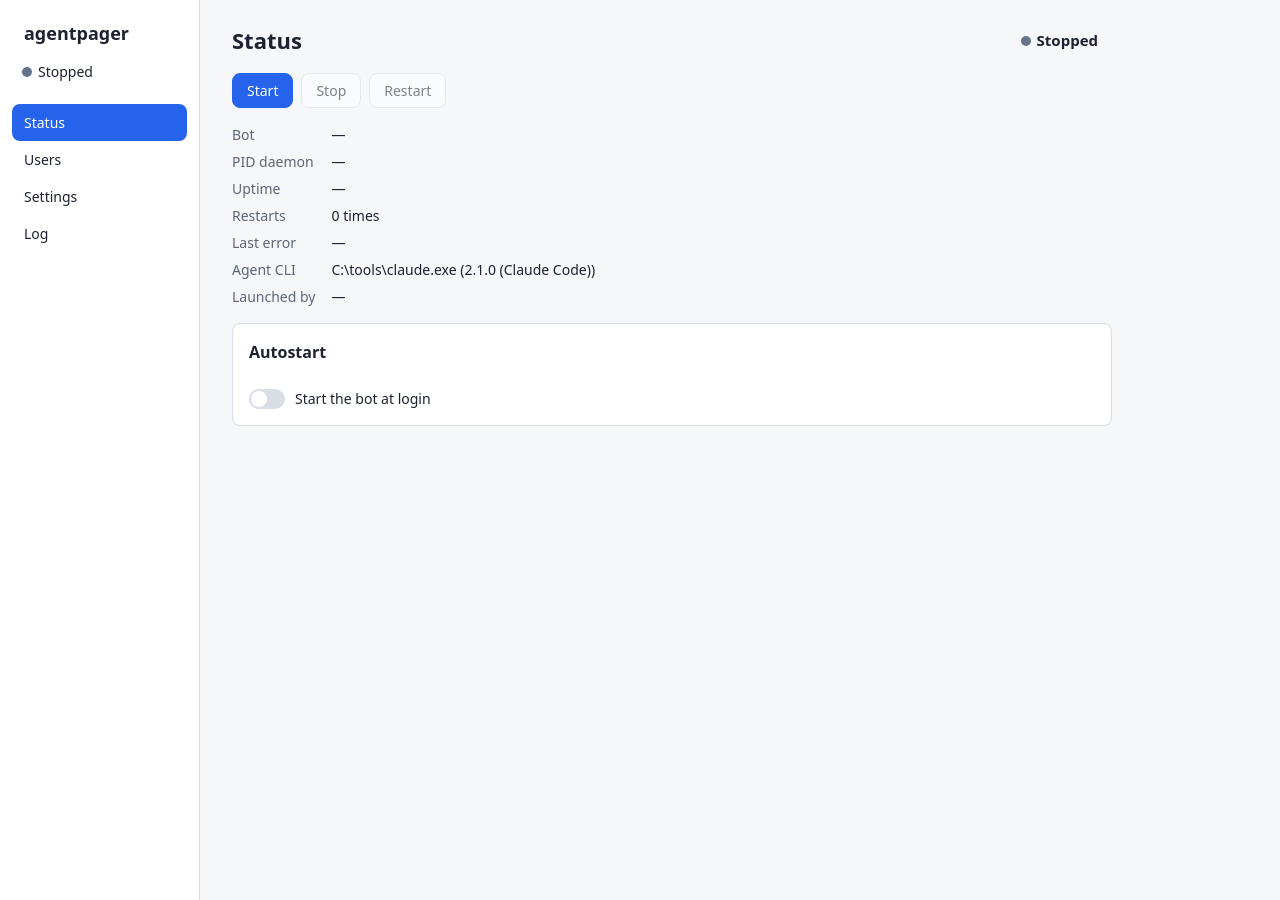
it: App › shows the four sections with live status
This screenshot has width=1280, height=900.
Expected: the heading "Status" is shown, left=232, top=24, right=302, bottom=57
Expected: the text "Stopped" is shown, left=22, top=62, right=93, bottom=81
Click the button "Users".
click(100, 160)  # box left=12, top=141, right=187, bottom=178
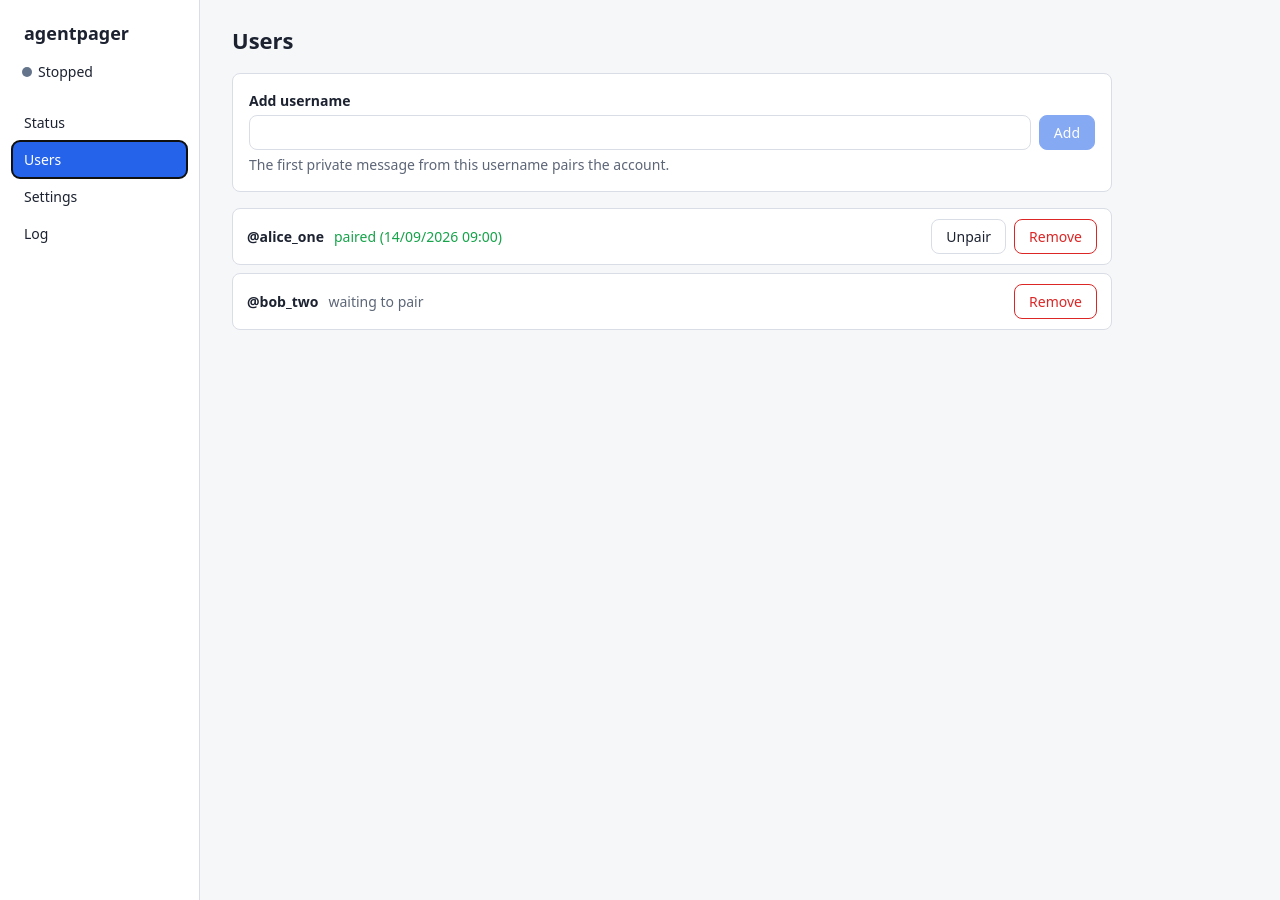
Result: the heading "Users" is shown at left=232, top=24, right=294, bottom=57
Click the button "Settings".
click(100, 196)  # box left=12, top=178, right=187, bottom=215
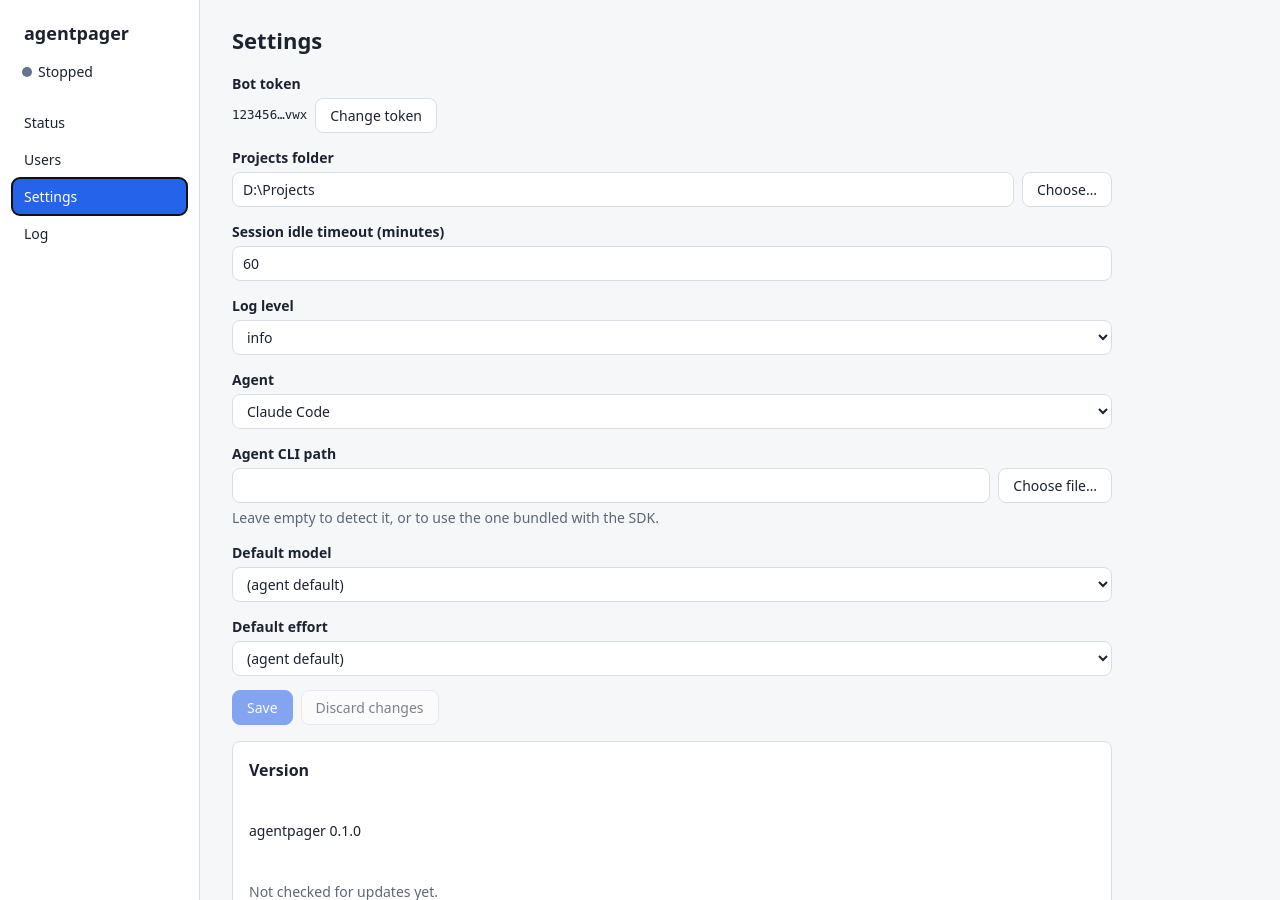
Result: the heading "Settings" is shown at left=232, top=24, right=322, bottom=57
Click the button "Log".
click(100, 234)  # box left=12, top=215, right=187, bottom=252
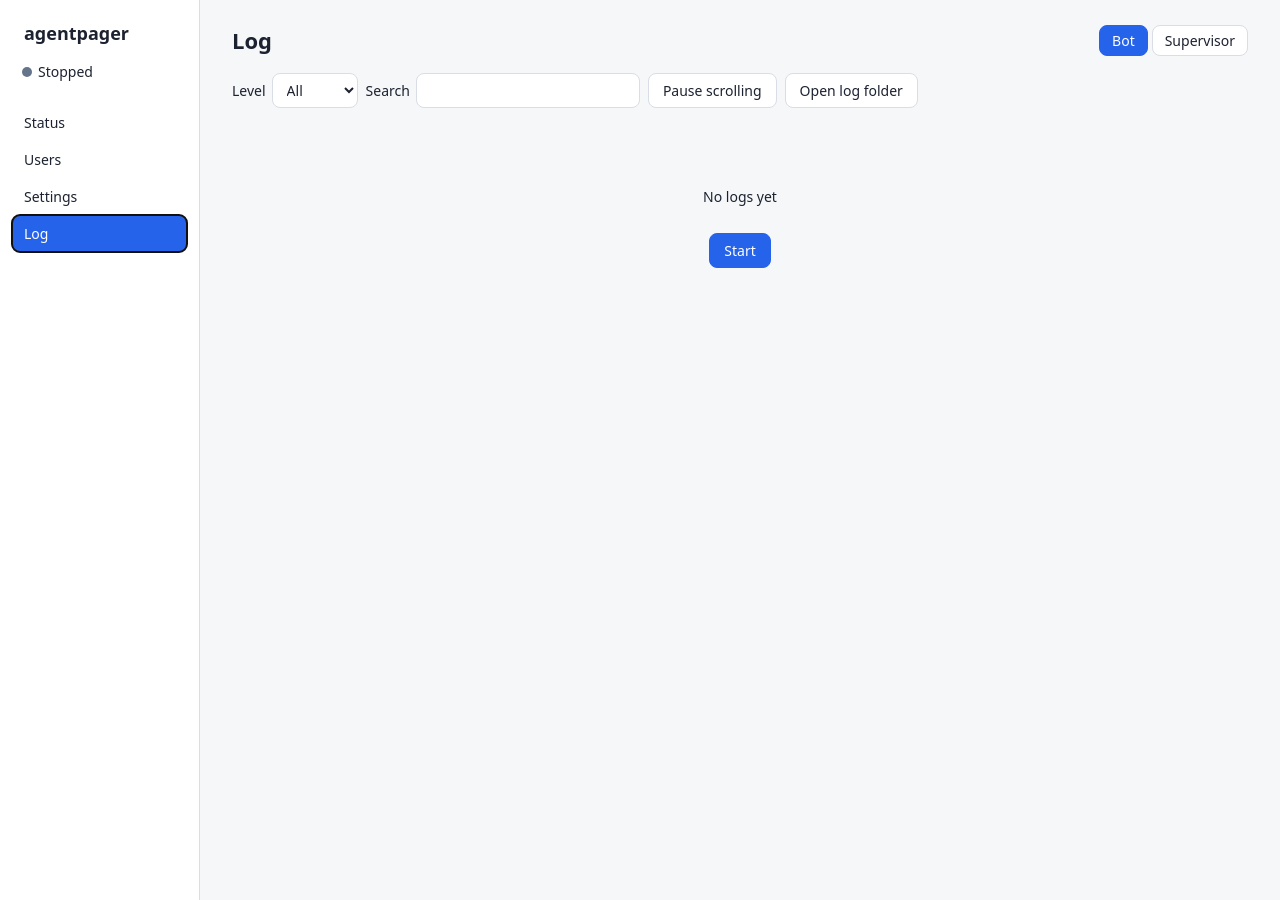
Result: the heading "Log" is shown at left=232, top=24, right=272, bottom=57
